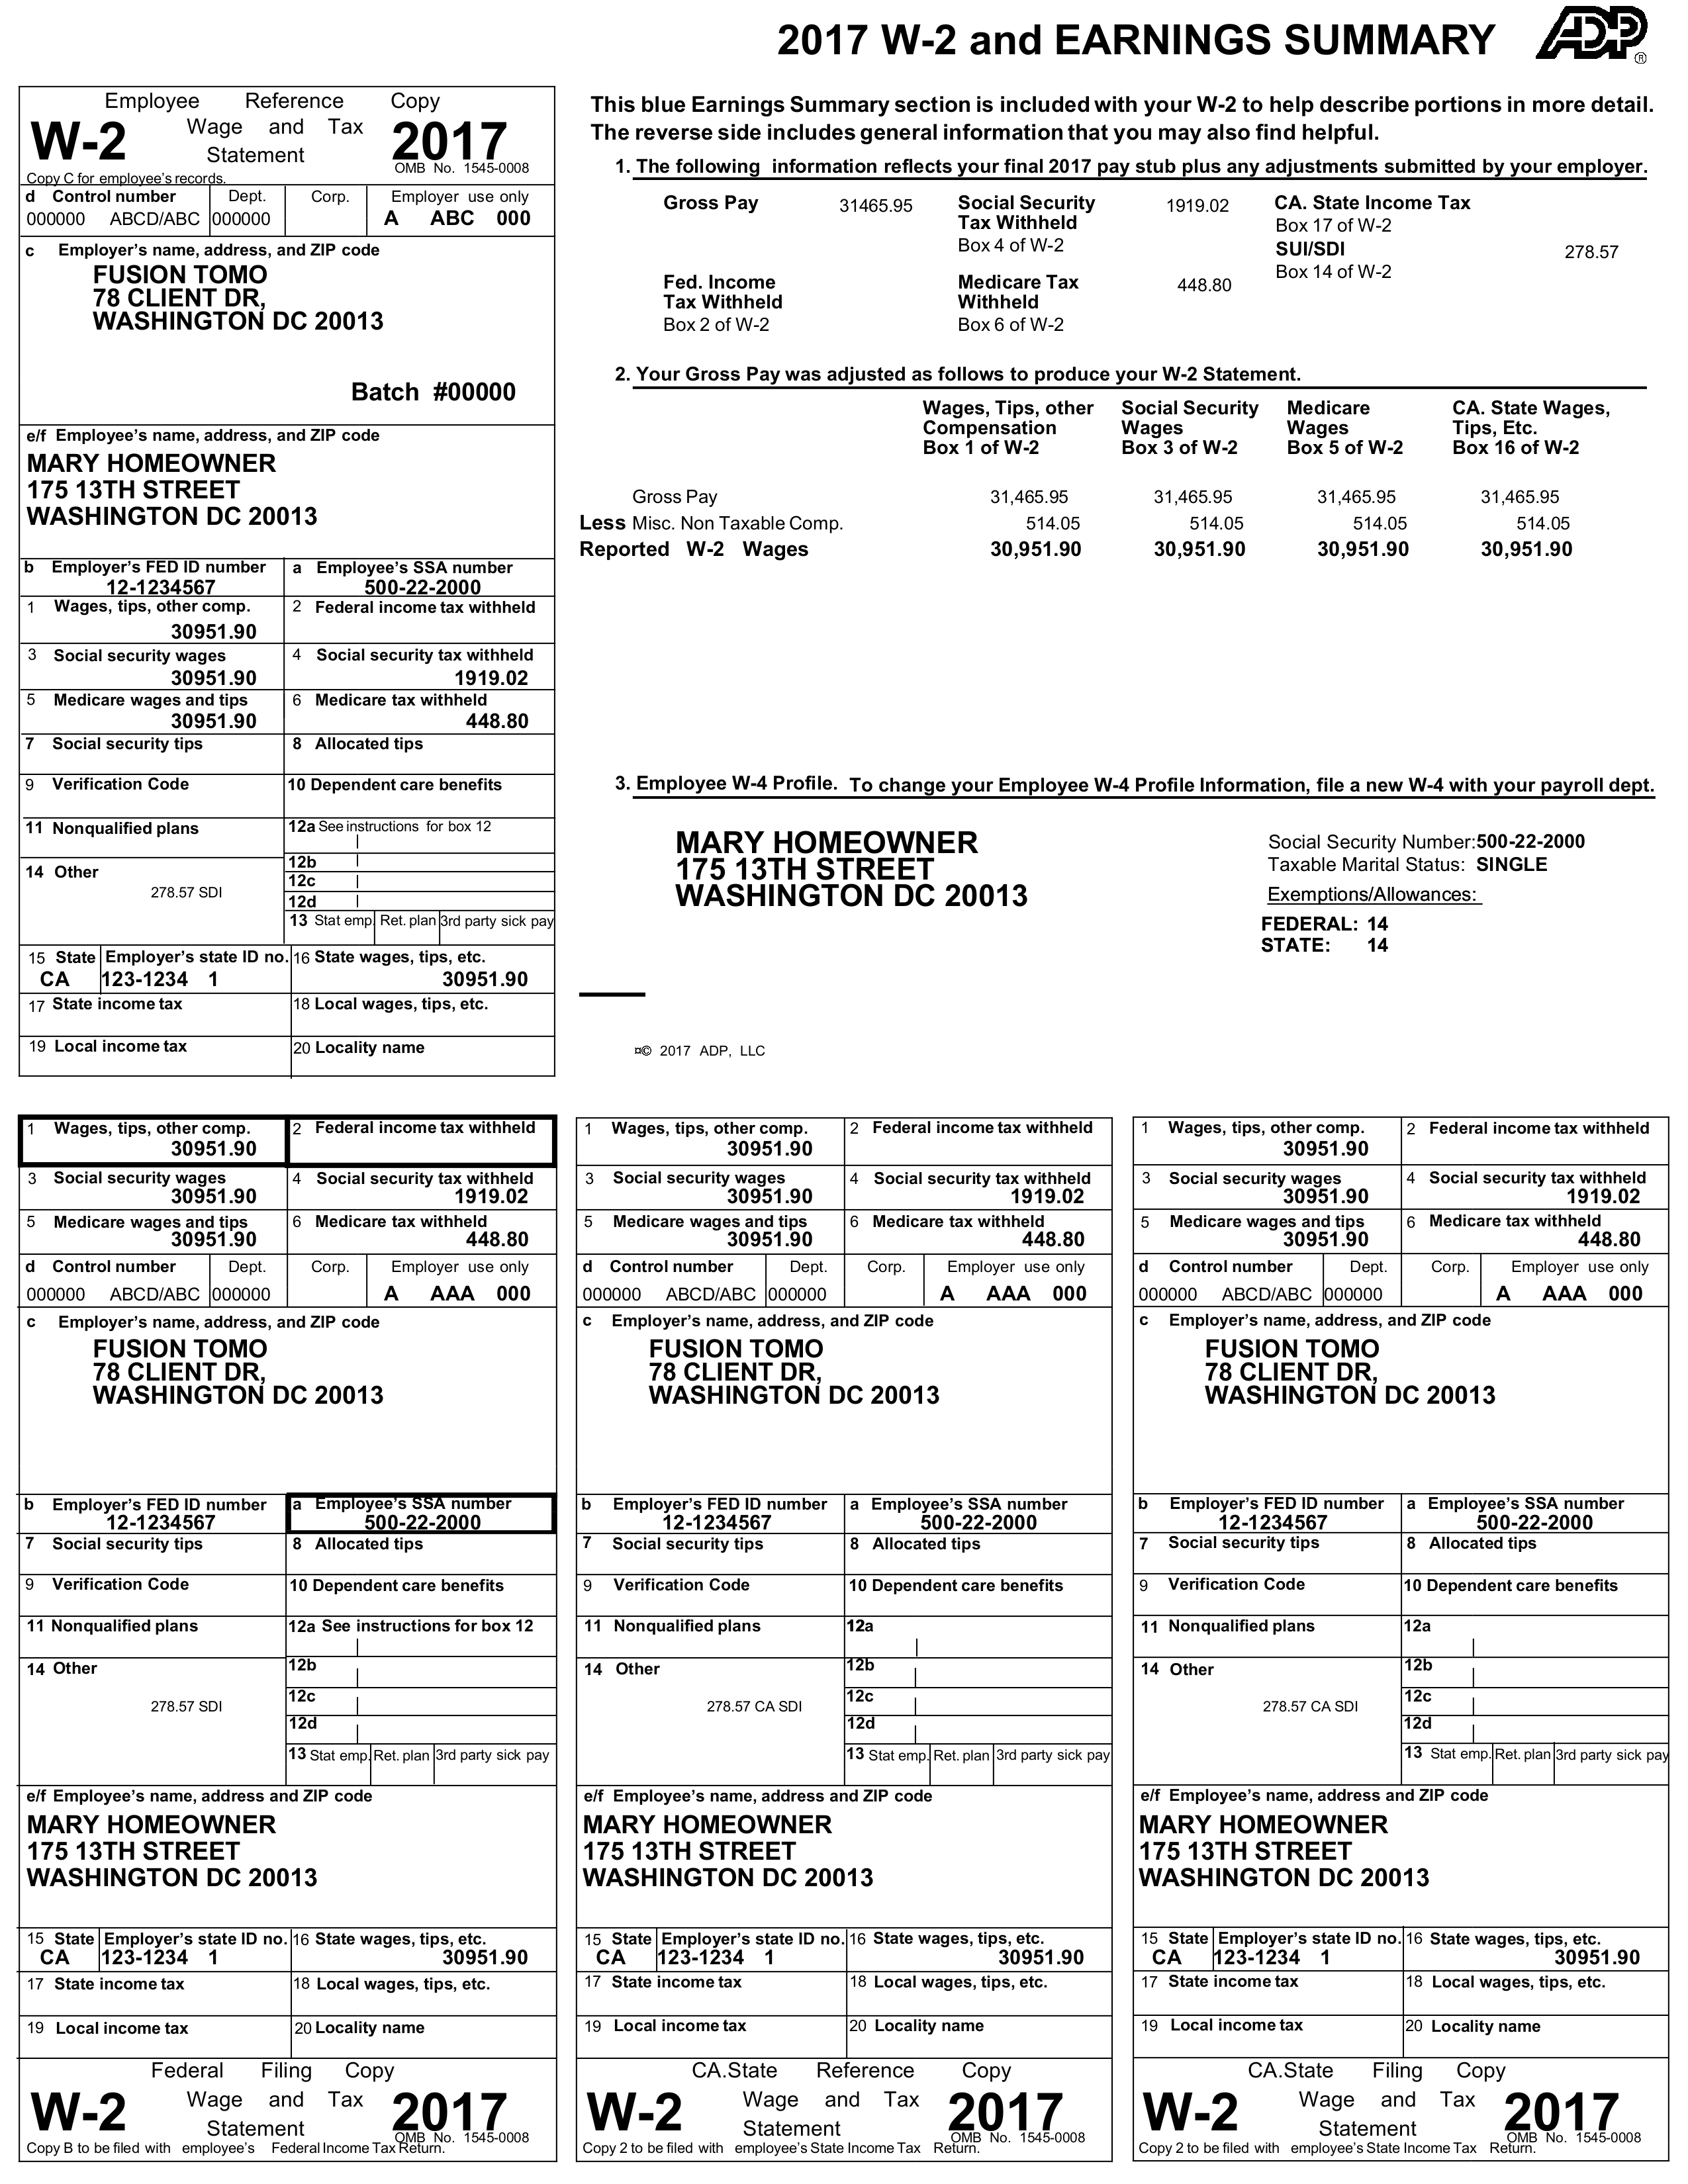table: (1135, 1115, 1670, 2164), (21, 1113, 557, 2161), (574, 1115, 1110, 2163), (21, 85, 555, 1074)
